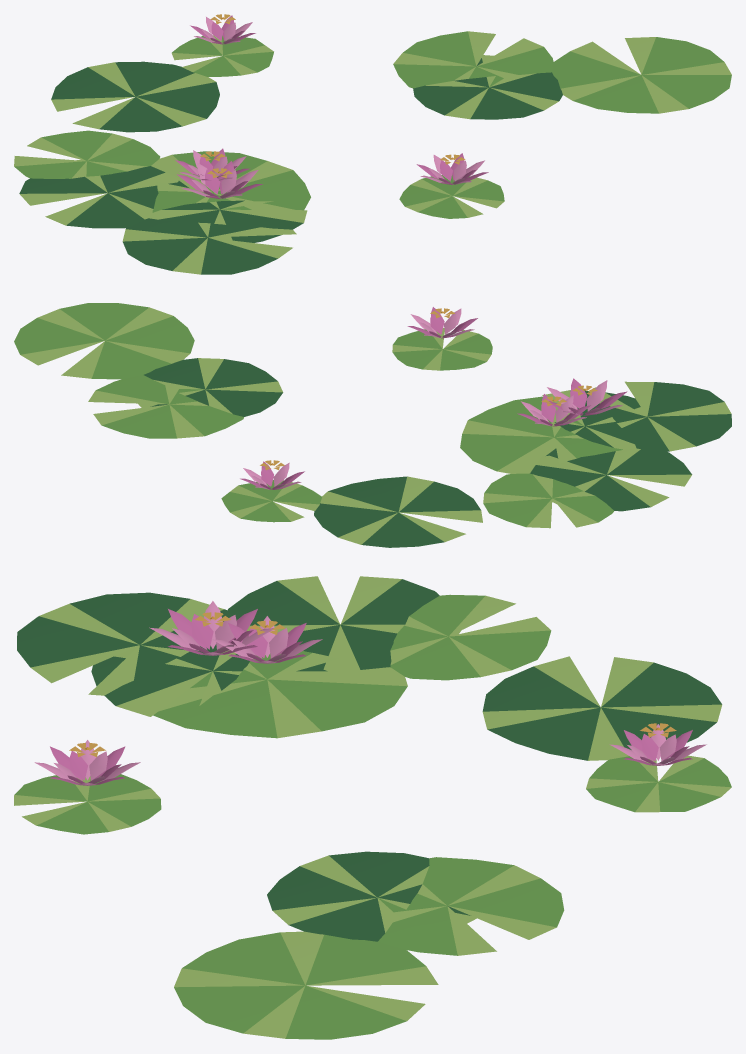
The model's file is Wetland_08_Nenufar_Pink.glb.
3 views of the same model, one above another, from view 1: azimuth 30°, elevation 25°; view 2: azimuth 150°, elevation 25°; view 3: azimuth 270°, elevation 25° (orthographic). The views are drawn at different scales.
Parts seen in each view (by area): view 1: Wetland_08_Nenufar_Pink; view 2: Wetland_08_Nenufar_Pink; view 3: Wetland_08_Nenufar_Pink.
Part boxes in pixels (x1,y1,x2,y2): Wetland_08_Nenufar_Pink: (14, 14, 731, 274); Wetland_08_Nenufar_Pink: (14, 303, 731, 547); Wetland_08_Nenufar_Pink: (14, 576, 731, 1039).
Size of the model in its own units: 3.24 by 0.181 by 2.12.
